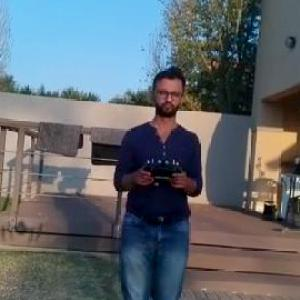follow: (102, 60, 204, 299)
